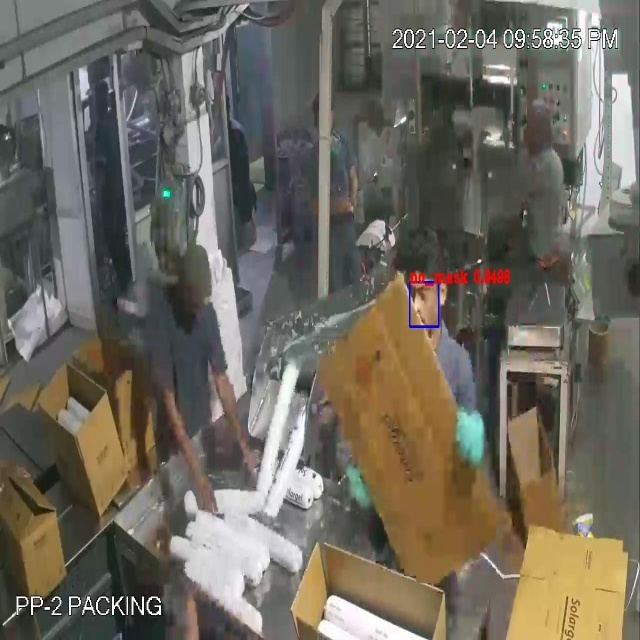Guantes: (447, 387, 492, 483)
Sin_guantes: (147, 357, 220, 534), (207, 340, 264, 489), (305, 167, 355, 230), (336, 144, 358, 208)
